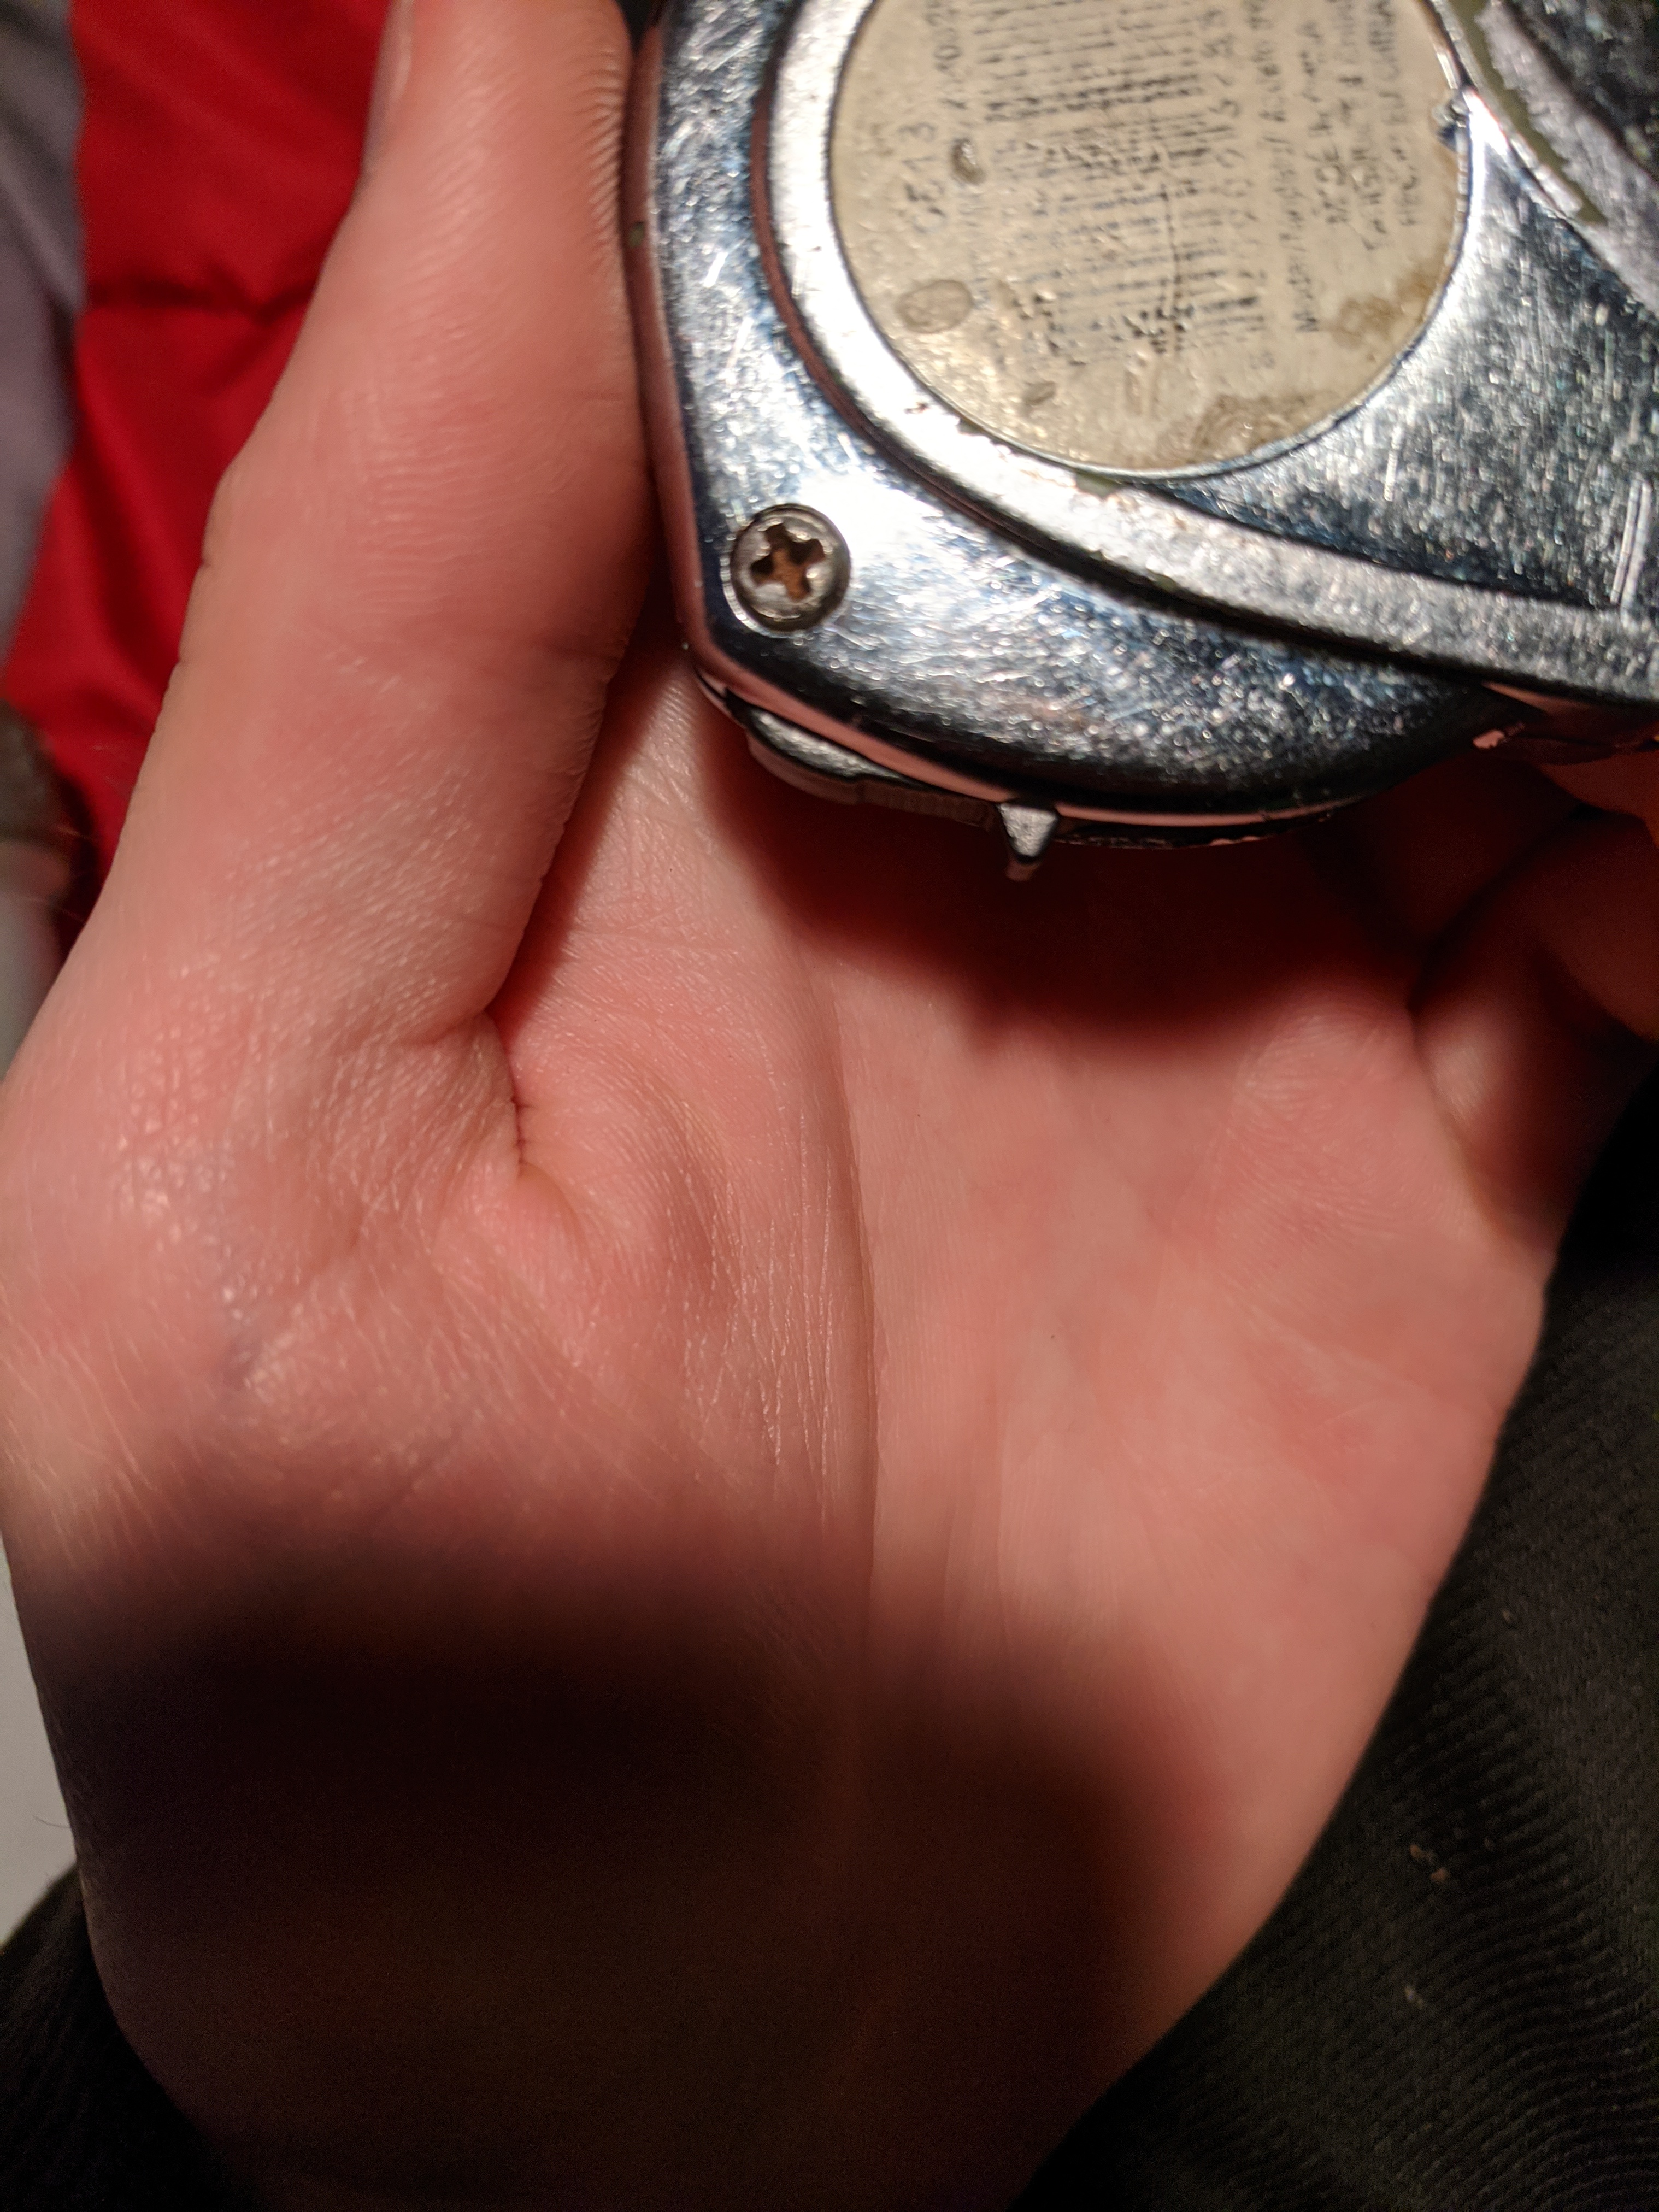cross_recessed_screw: (723, 477, 859, 637)
